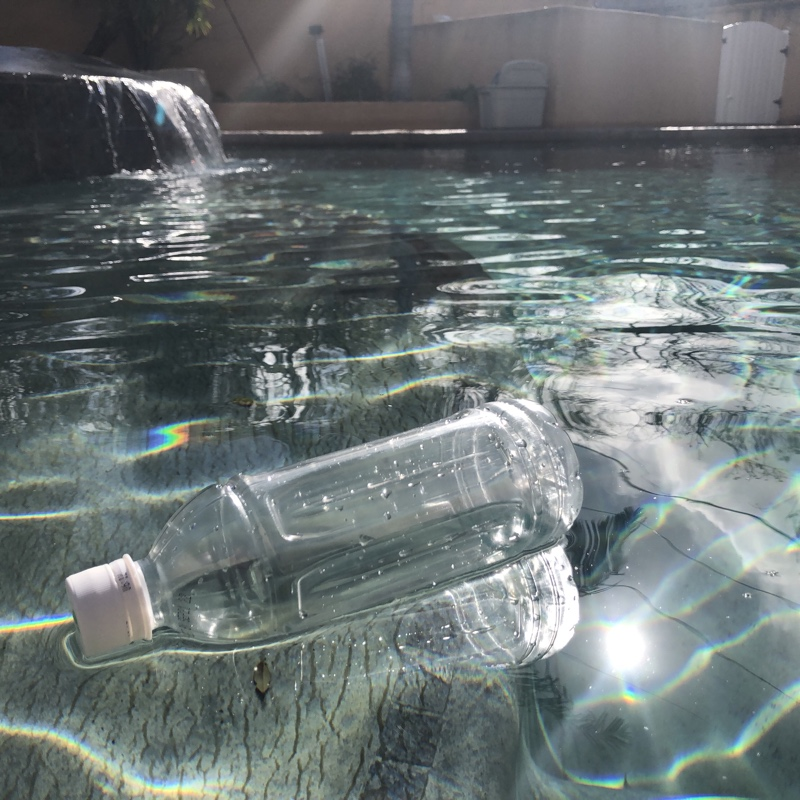Plastic Bottle: (58, 396, 587, 666)
